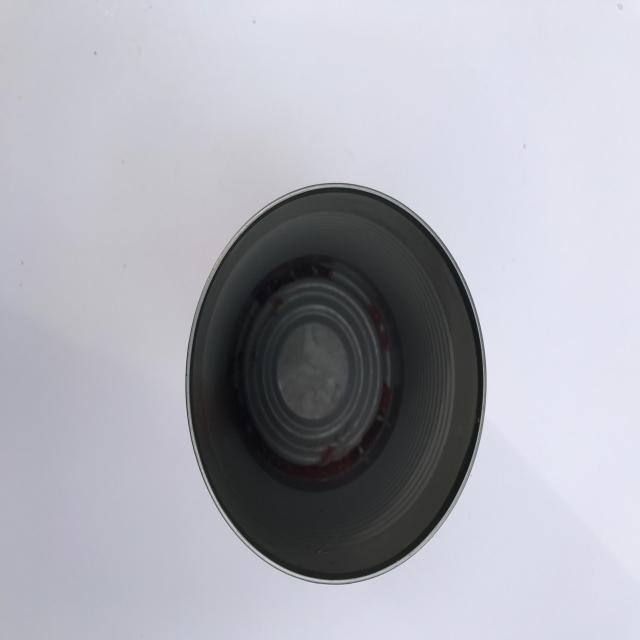metal: (185, 182, 489, 586)
